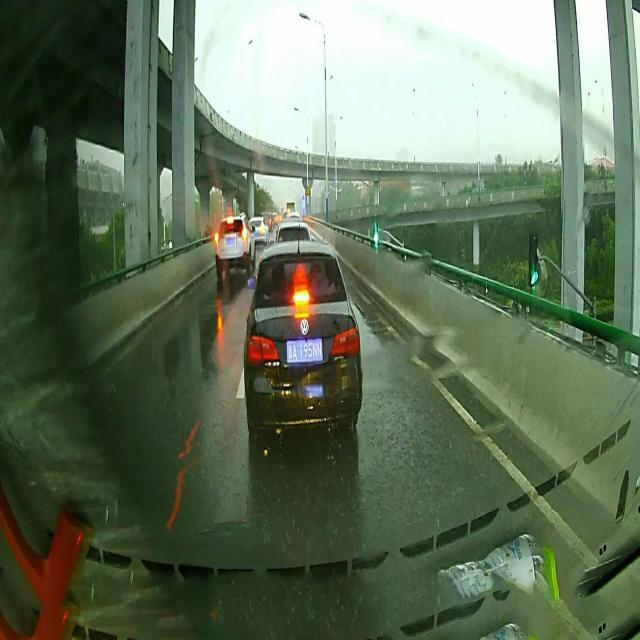car: (242, 240, 363, 450), (212, 213, 255, 276), (274, 220, 316, 244)
